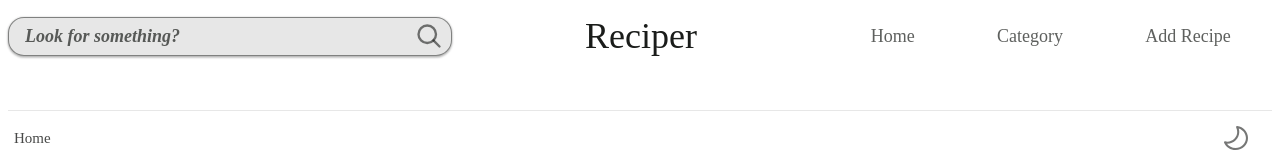
BreadCrumbs Section › Navigate in navigation Header will change a bread to it
This screenshot has width=1280, height=167.
insert Category
What coordinates should you click on to do the following:
click the button with test id "headerNavOrderList"
I would click on:
 (1030, 36)
Its box is [991,23,1069,49].
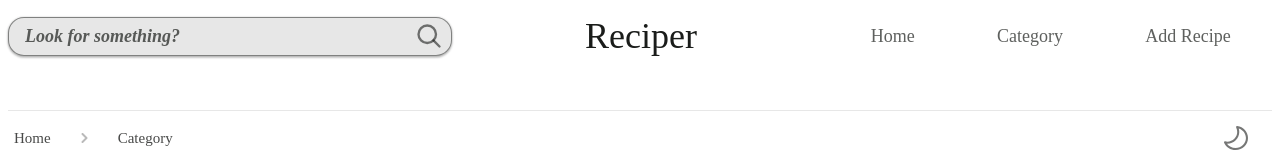
Result: the element with test id "breadHolder" shows "Category" at [112,127,179,149]
insert Home and remove category
What coordinates should you click on to do the following:
click the button with test id "headerNavHome"
I would click on:
 (893, 36)
Its box is [865,23,921,49].
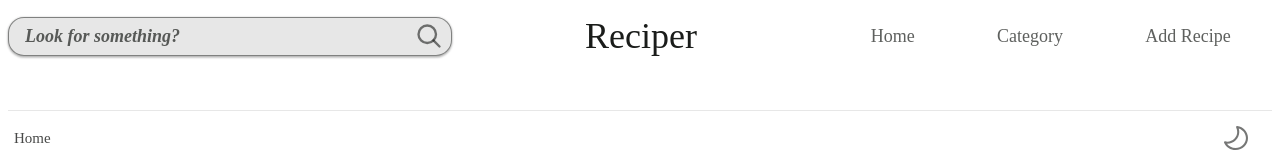
Expected: the element with test id "breadHolder" does not show "Category", [8,126,1248,150]
Expected: the element with test id "breadHolder" reads "Home", [8,127,57,149]
insert add
What coordinates should you click on to do the following:
click the button with test id "headerNavAdd"
I would click on:
 (1188, 36)
Its box is [1139,23,1237,49].
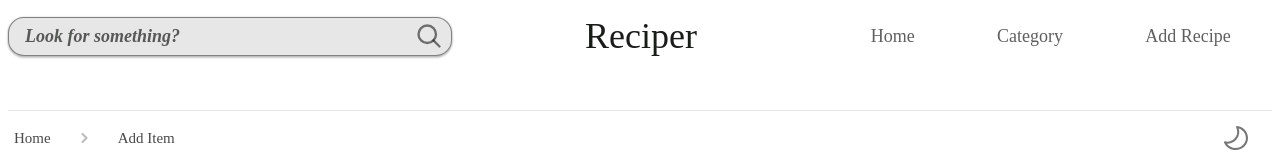
Result: the element with test id "breadHolder" shows "Add Item" at [112,127,181,149]
